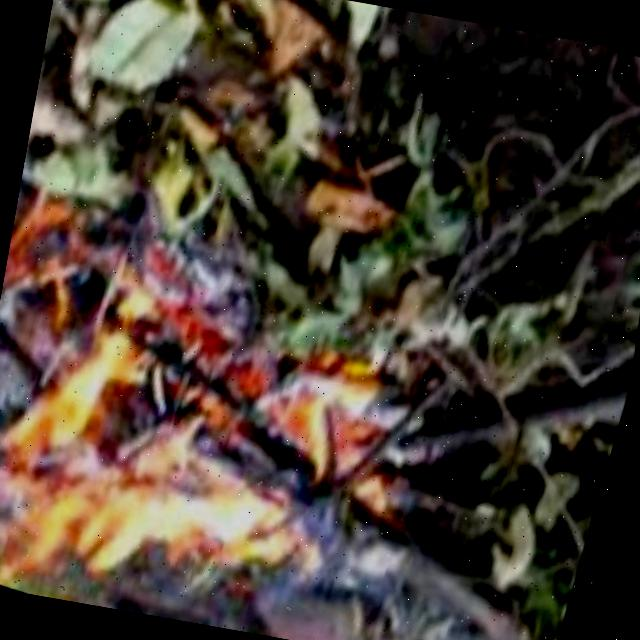fire: (0, 365, 331, 640), (0, 277, 177, 496)
